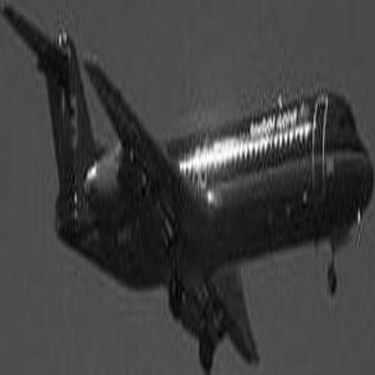airplane: (4, 4, 368, 370)
